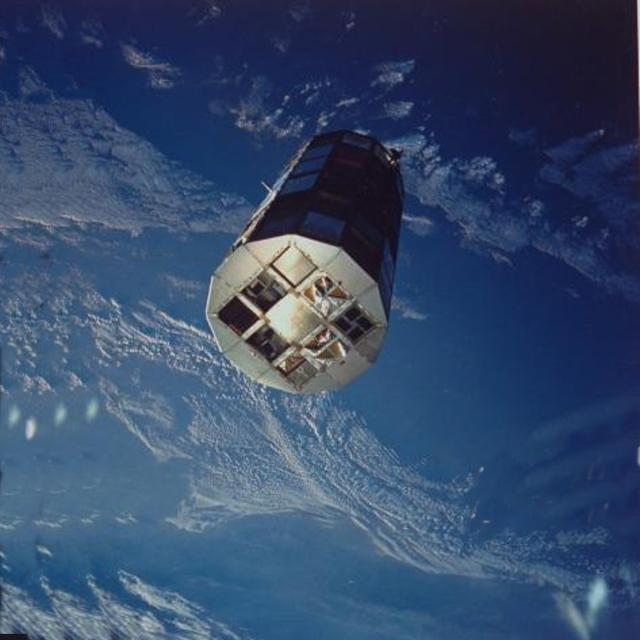medium_debris: (203, 111, 413, 408)
